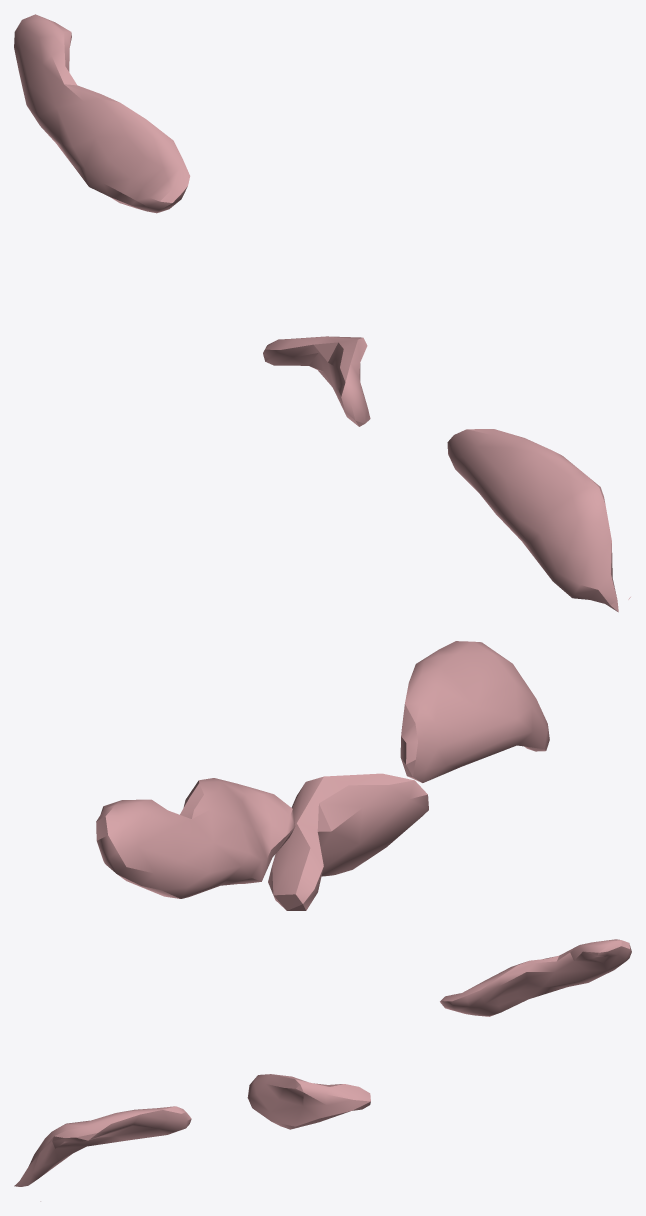
The model's file is fma275425_mm3759m.glb.
The picture shows the model from 3 angles, top to bottom: view 1: azimuth 30°, elevation 25°; view 2: azimuth 150°, elevation 25°; view 3: azimuth 270°, elevation 25°; orthographic projection. The views are drawn at different scales.
Parts seen in each view (by area): view 1: FMA275425_MM3759M; view 2: FMA275425_MM3759M; view 3: FMA275425_MM3759M.
Part boxes in pixels (x1,y1,x2,y2): FMA275425_MM3759M: [14, 14, 630, 612]; FMA275425_MM3759M: [96, 641, 549, 910]; FMA275425_MM3759M: [14, 939, 631, 1201].
Bounding box in the file's own units: 0.0191 × 0.0277 × 0.0743.
